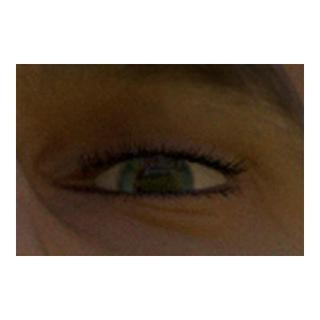pupil: (139, 169, 172, 202)
